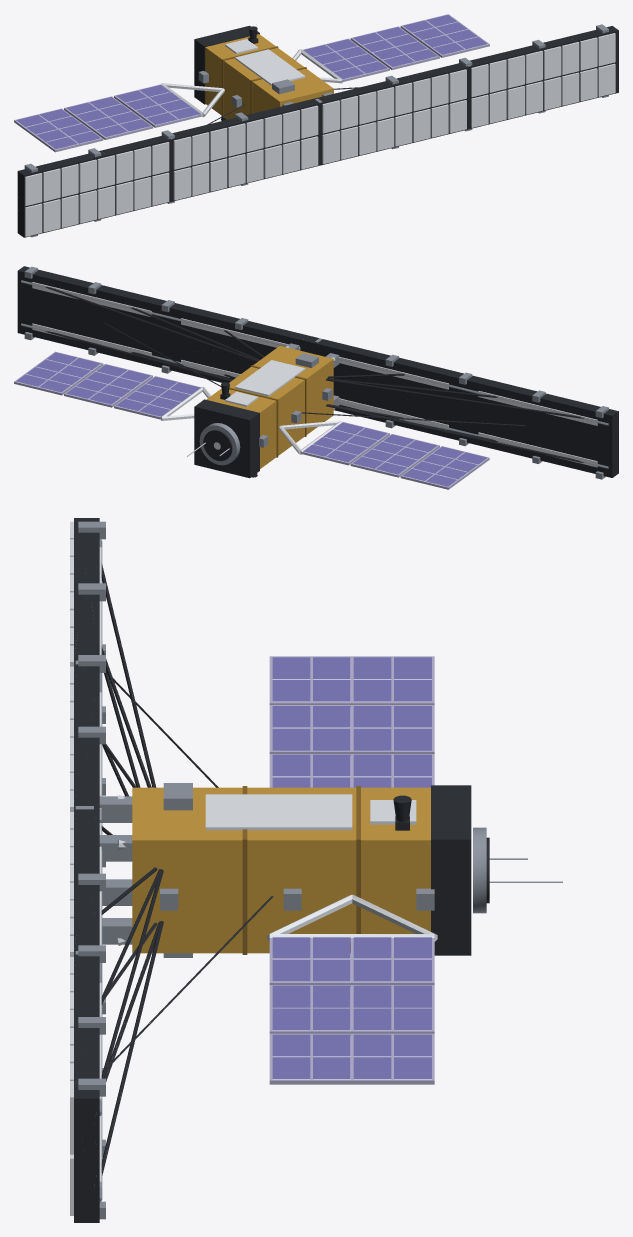
Rendered from radarsat-2.glb.
3 views of the same model, one above another, from view 1: azimuth 30°, elevation 25°; view 2: azimuth 150°, elevation 25°; view 3: azimuth 270°, elevation 25° (orthographic). The views are drawn at different scales.
Parts seen in each view (by area): view 1: body, solar-panel, foil; view 2: body, solar-panel, foil; view 3: body, solar-panel, foil.
Boxes of the visible parts, left/top/right/bottom form: body: left=14, top=14, right=618, bottom=237; solar-panel: left=16, top=15, right=487, bottom=149; foil: left=205, top=34, right=333, bottom=119; body: left=14, top=266, right=618, bottom=489; solar-panel: left=16, top=352, right=487, bottom=486; foil: left=206, top=346, right=333, bottom=468; body: left=70, top=518, right=562, bottom=1222; solar-panel: left=272, top=657, right=431, bottom=1078; foil: left=132, top=787, right=430, bottom=953.
Size of the model in its own units: 15 by 2.04 by 5.38.
